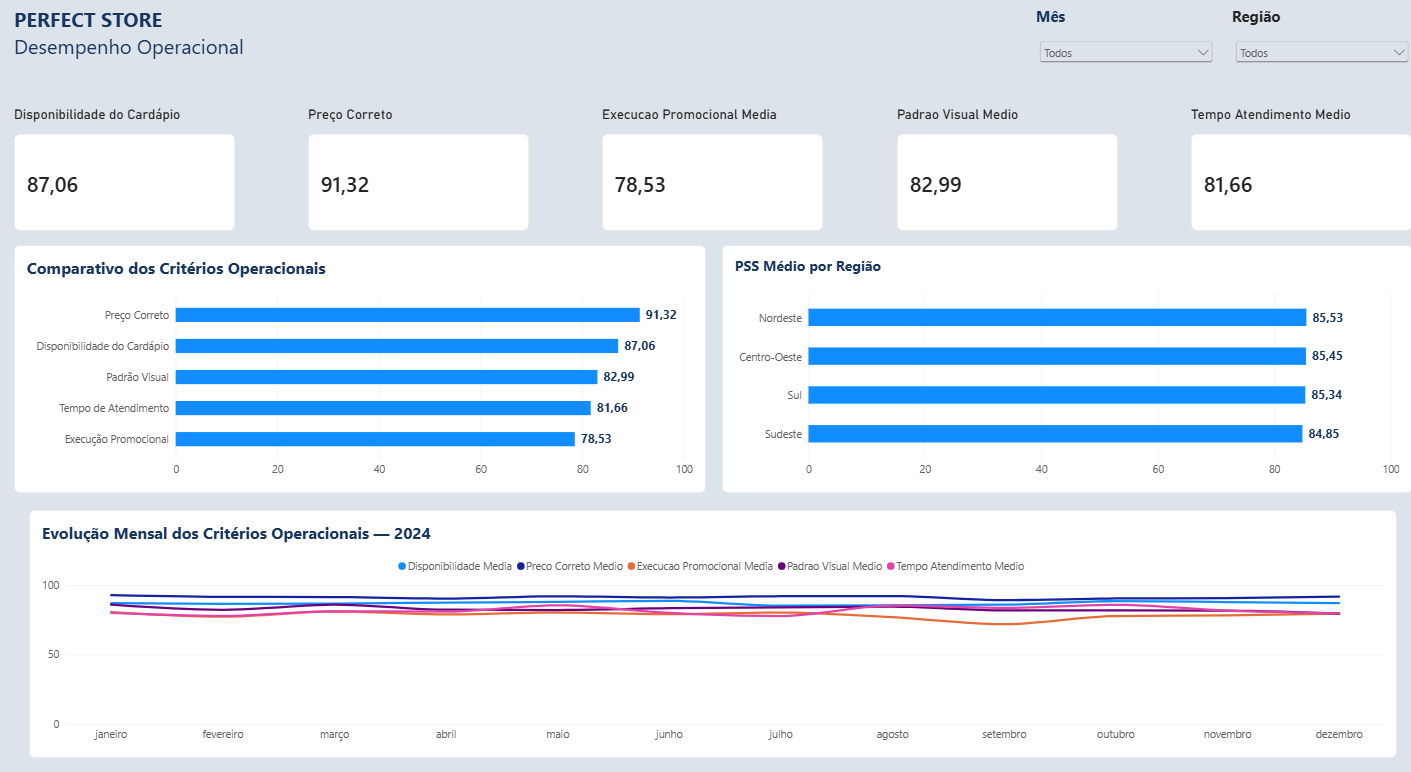

The dashboard page shown, as its layout file describes it:
{"tool":"powerbi","page":{"name":"Desempenho Operacional","canvas":[1920,1080],"ordinal":1},"visuals":[{"type":"clusteredBarChart","title":"Comparativo dos Critérios Operacionais","fields":{"Category":["Criterios_Operacionais.Criterio"],"Y":["Criterios_Operacionais.Valor Criterio Operacional"]},"box":[30,350,920,330],"z":0},{"type":"lineChart","title":"Evolução Mensal dos Critérios Operacionais — 2024","fields":{"Category":["projeto1_vendas_perfect_store.Nome_Mes"],"Y":["projeto1_vendas_perfect_store.Disponibilidade Media","projeto1_vendas_perfect_store.Preco Correto Medio","projeto1_vendas_perfect_store.Execucao Promocional Media","projeto1_vendas_perfect_store.Padrao Visual Medio","projeto1_vendas_perfect_store.Tempo Atendimento Medio"]},"box":[50,701.7,1819,330],"z":1000},{"type":"clusteredBarChart","title":"PSS Médio por Região","fields":{"Category":["projeto1_vendas_perfect_store.regiao"],"Y":["projeto1_vendas_perfect_store.PSS Medio"]},"box":[971.7,350,918.3,330],"z":2000},{"type":"cardVisual","title":"Disponibilidade do Cardápio","fields":{"Data":["projeto1_vendas_perfect_store.Disponibilidade Media"]},"box":[30,165,294,166.1],"z":3000},{"type":"cardVisual","title":"Preço Correto","fields":{"Data":["projeto1_vendas_perfect_store.Preco Correto Medio"]},"box":[422,165,294,166],"z":4000},{"type":"cardVisual","title":"Execucao Promocional Media","fields":{"Data":["projeto1_vendas_perfect_store.Execucao Promocional Media"]},"box":[813,165,294,166],"z":5000},{"type":"cardVisual","title":"Padrao Visual Medio","fields":{"Data":["projeto1_vendas_perfect_store.Padrao Visual Medio"]},"box":[1205,165,294,166],"z":6000},{"type":"cardVisual","title":"Tempo Atendimento Medio","fields":{"Data":["projeto1_vendas_perfect_store.Tempo Atendimento Medio"]},"box":[1596,165,294,166],"z":7000},{"type":"textbox","box":[30,30,600,110],"z":8000},{"type":"slicer","title":"Mês","fields":{"Values":["projeto1_vendas_perfect_store.Nome_Mes"]},"box":[1390,30,240,110],"z":9000},{"type":"slicer","title":"Região","fields":{"Values":["projeto1_vendas_perfect_store.regiao"]},"box":[1650,30,240,110],"z":10000}]}

Visuals, with their boxes in screenshot pixels (x1, y1, x2, y2), scaled from the page's 1920x1080 canvas onto the 1411x772 screenshot:
"Comparativo dos Critérios Operacionais" clusteredBarChart: bbox=(22, 250, 698, 486)
"Evolução Mensal dos Critérios Operacionais — 2024" lineChart: bbox=(37, 502, 1374, 737)
"PSS Médio por Região" clusteredBarChart: bbox=(714, 250, 1389, 486)
"Disponibilidade do Cardápio" cardVisual: bbox=(22, 118, 238, 237)
"Preço Correto" cardVisual: bbox=(310, 118, 526, 237)
"Execucao Promocional Media" cardVisual: bbox=(597, 118, 814, 237)
"Padrao Visual Medio" cardVisual: bbox=(886, 118, 1102, 237)
"Tempo Atendimento Medio" cardVisual: bbox=(1173, 118, 1389, 237)
textbox: bbox=(22, 21, 463, 100)
"Mês" slicer: bbox=(1022, 21, 1198, 100)
"Região" slicer: bbox=(1213, 21, 1389, 100)
